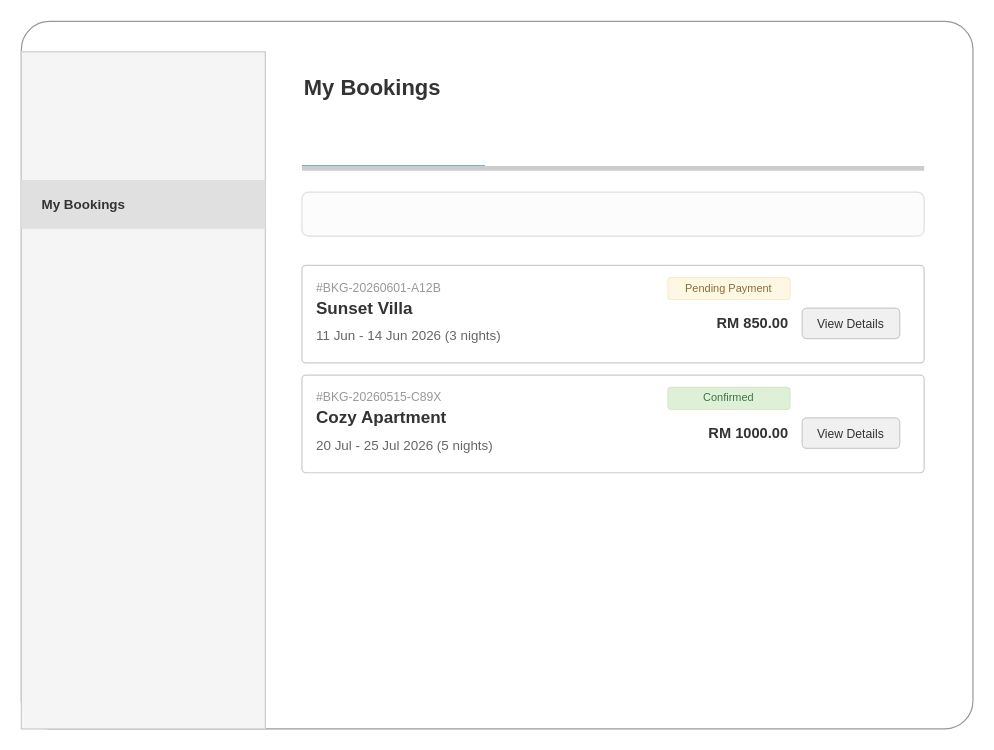
Some shapes in this 994 by 750 pixel diagram are drawn without their labels. The centre of each missing label's shape, as x and y in pixels:
Current & Upcoming: (x=392, y=149)
Filter by Status ▼ | Filter by Date Range ▼: (x=612, y=213)
Past Bookings: (x=570, y=149)
